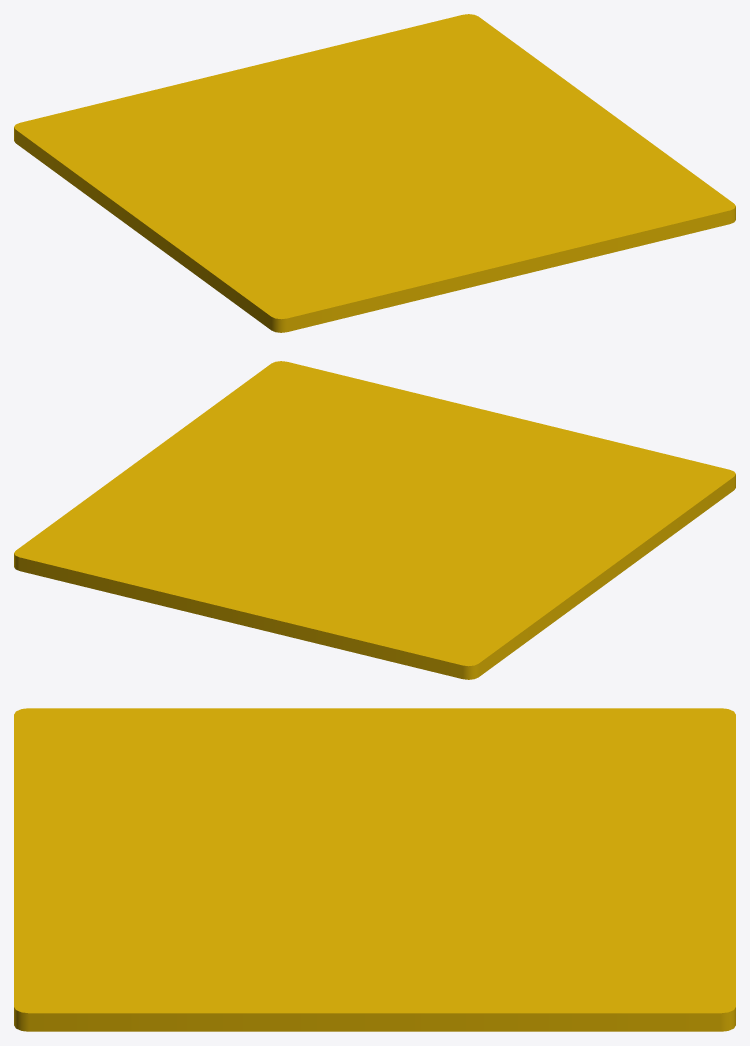
The model's file is cheddar_slice.fbx.
3 renders of one model, top to bottom at view 1: azimuth 30°, elevation 25°; view 2: azimuth 150°, elevation 25°; view 3: azimuth 270°, elevation 25°, orthographic. The views are drawn at different scales.
Parts seen in each view (by area): view 1: Cheddar_slice; view 2: Cheddar_slice; view 3: Cheddar_slice.
Boxes of the visible parts, x1,y1,x2,y2 form: Cheddar_slice: (14, 14, 735, 332); Cheddar_slice: (14, 361, 735, 679); Cheddar_slice: (14, 708, 735, 1031).
Bounding box in the file's own units: 84.01 × 2.38 × 84.01.
